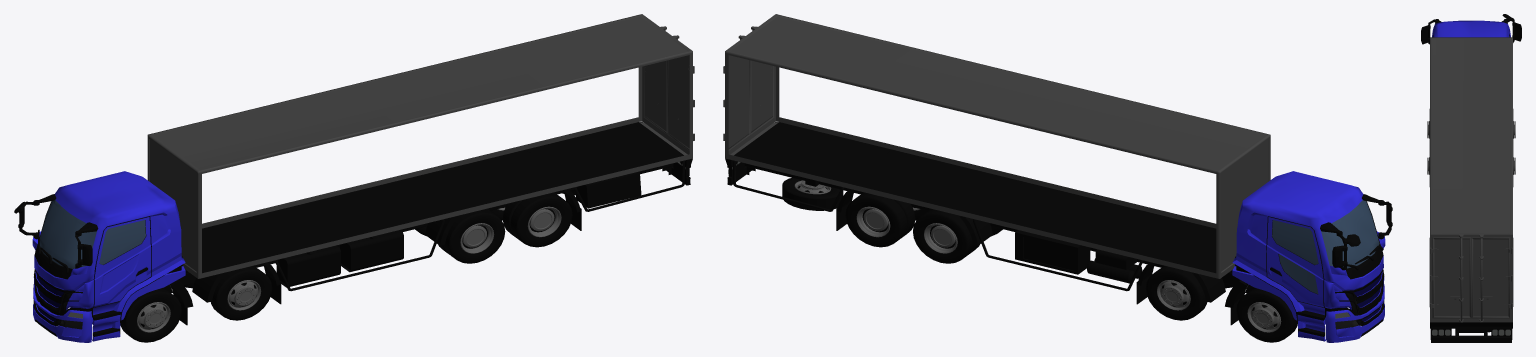
The model's file is truck.glb.
3 renders of one model, left to right at view 1: azimuth 30°, elevation 25°; view 2: azimuth 150°, elevation 25°; view 3: azimuth 270°, elevation 25°, orthographic. The views are drawn at different scales.
Parts seen in each view (by area): view 1: Truck_body_Truck_body.L, Truck_head_Truck_head.L, wheels_Circle, Truck_door.L, Truck_Fueltank02, Truck_Fueltank01, Truck_Toolbox, Truck_backmirror.R; view 2: Truck_body_Truck_body.L, Truck_head_Truck_head.L, wheels_Circle, Truck_door.R, Truck_Toolbox1, wheel_Circle.001, Truck_Brakesys, Truck_backmirror.L; view 3: Truck_body_Truck_body.L, Truck_head_Truck_head.L, wheels_Circle, Truck_backmirror.L, Truck_backmirror.R.
Part boxes in pixels (bbox=[...]): Truck_body_Truck_body.L: bbox=[147, 14, 694, 304]; Truck_head_Truck_head.L: bbox=[32, 171, 193, 342]; wheels_Circle: bbox=[120, 192, 572, 342]; Truck_door.L: bbox=[93, 216, 151, 307]; Truck_Fueltank02: bbox=[337, 230, 403, 272]; Truck_Fueltank01: bbox=[276, 245, 340, 287]; Truck_Toolbox: bbox=[576, 172, 641, 208]; Truck_backmirror.R: bbox=[75, 222, 98, 268]; Truck_body_Truck_body.L: bbox=[723, 14, 1270, 304]; Truck_head_Truck_head.L: bbox=[1225, 171, 1385, 342]; wheels_Circle: bbox=[845, 192, 1297, 342]; Truck_door.R: bbox=[1266, 216, 1324, 307]; Truck_Toolbox1: bbox=[1015, 230, 1090, 274]; wheel_Circle.001: bbox=[782, 177, 843, 210]; Truck_Brakesys: bbox=[1087, 249, 1142, 283]; Truck_backmirror.L: bbox=[1320, 222, 1360, 270]; Truck_body_Truck_body.L: bbox=[1430, 37, 1512, 342]; Truck_head_Truck_head.L: bbox=[1432, 20, 1510, 37]; wheels_Circle: bbox=[1427, 109, 1515, 306]; Truck_backmirror.L: bbox=[1501, 14, 1521, 42]; Truck_backmirror.R: bbox=[1421, 19, 1441, 44].
Size of the model in its own units: 17.73 by 4.24 by 2.97.
